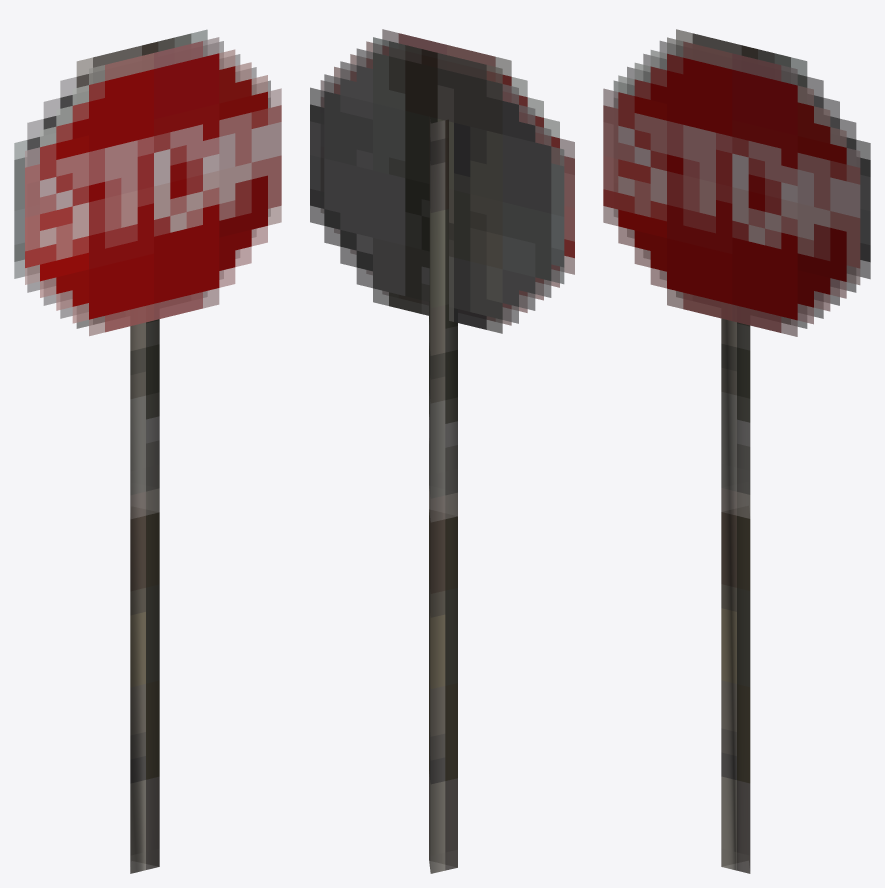
Rendered from Environment - Prop - stopsign - PMstopsign.glb.
The picture shows the model from 3 angles, left to right: view 1: azimuth 30°, elevation 25°; view 2: azimuth 150°, elevation 25°; view 3: azimuth 330°, elevation 25°; orthographic projection.
Parts seen in each view (by area): view 1: PMSTOPSIGN; view 2: PMSTOPSIGN; view 3: PMSTOPSIGN.
Boxes of the visible parts, x1,y1,x2,y2 form: PMSTOPSIGN: (14,29,281,873); PMSTOPSIGN: (310,29,574,873); PMSTOPSIGN: (603,29,870,873).
Size of the model in its own units: 4.48 by 13.68 by 0.5932.
Materials: 1 (1 with a texture image).
